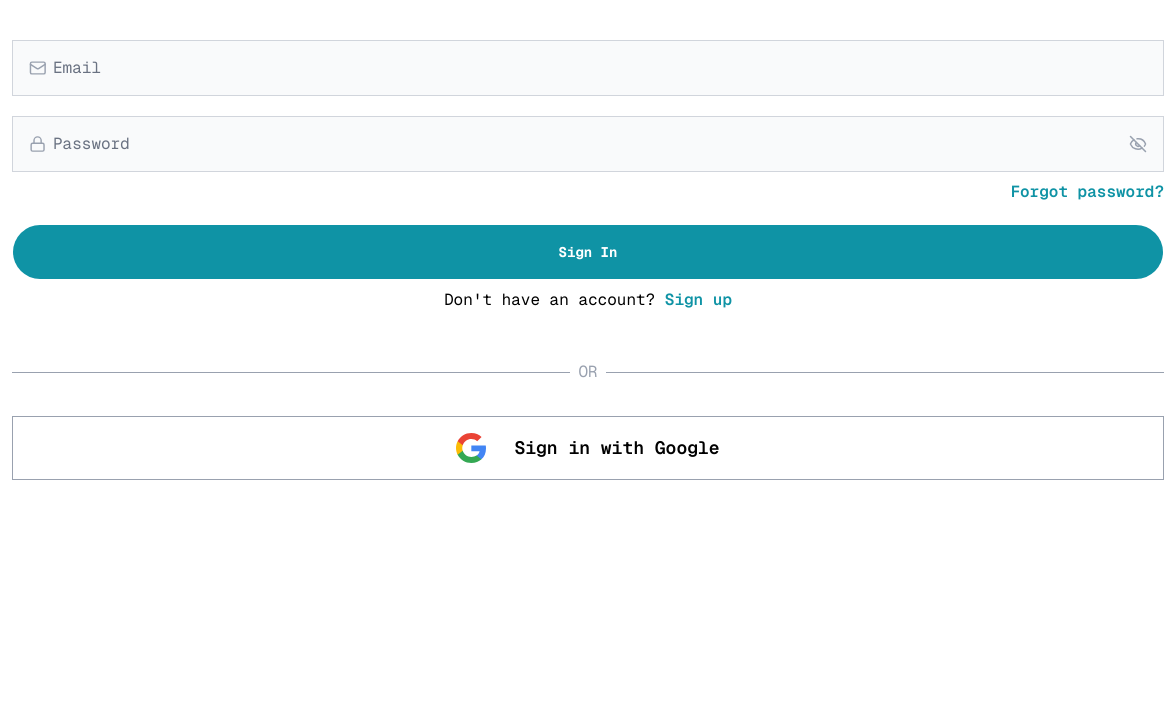
Test case: LoginForm › shows validation error when the email is invalid
In the field with id "email": (601, 68) top-left (55, 41), bottom-right (1147, 95), type "invalid-email"
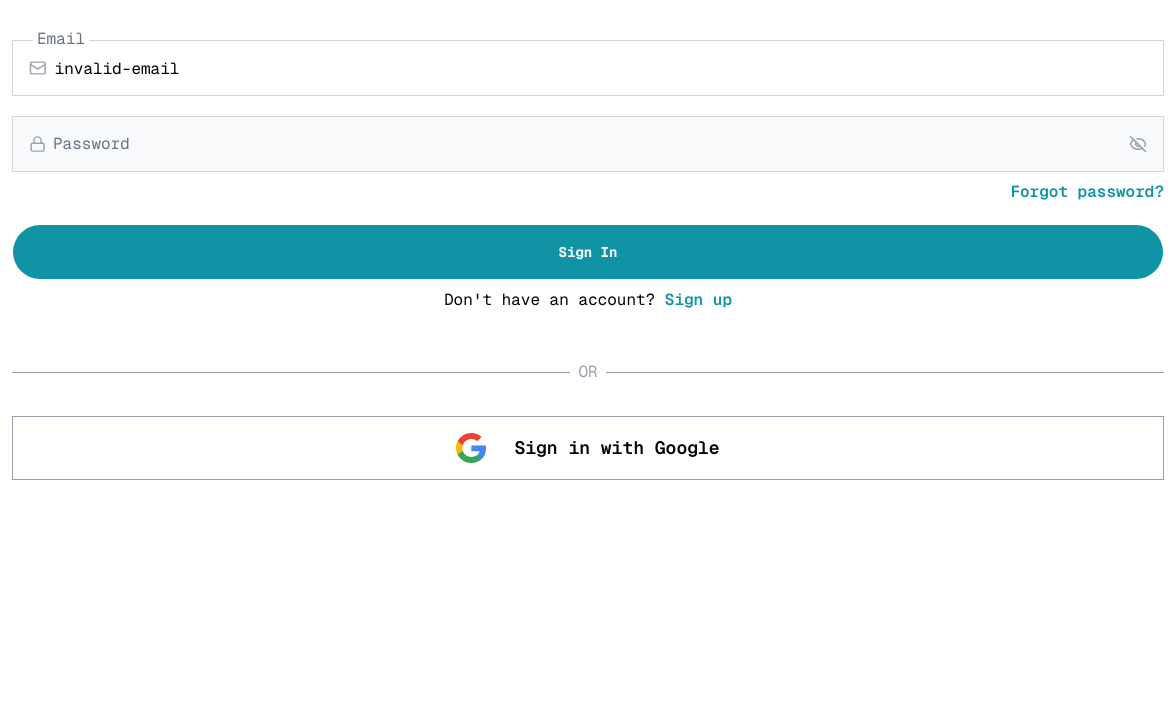
Click the button "Sign In": (588, 252) top-left (12, 224), bottom-right (1164, 280)
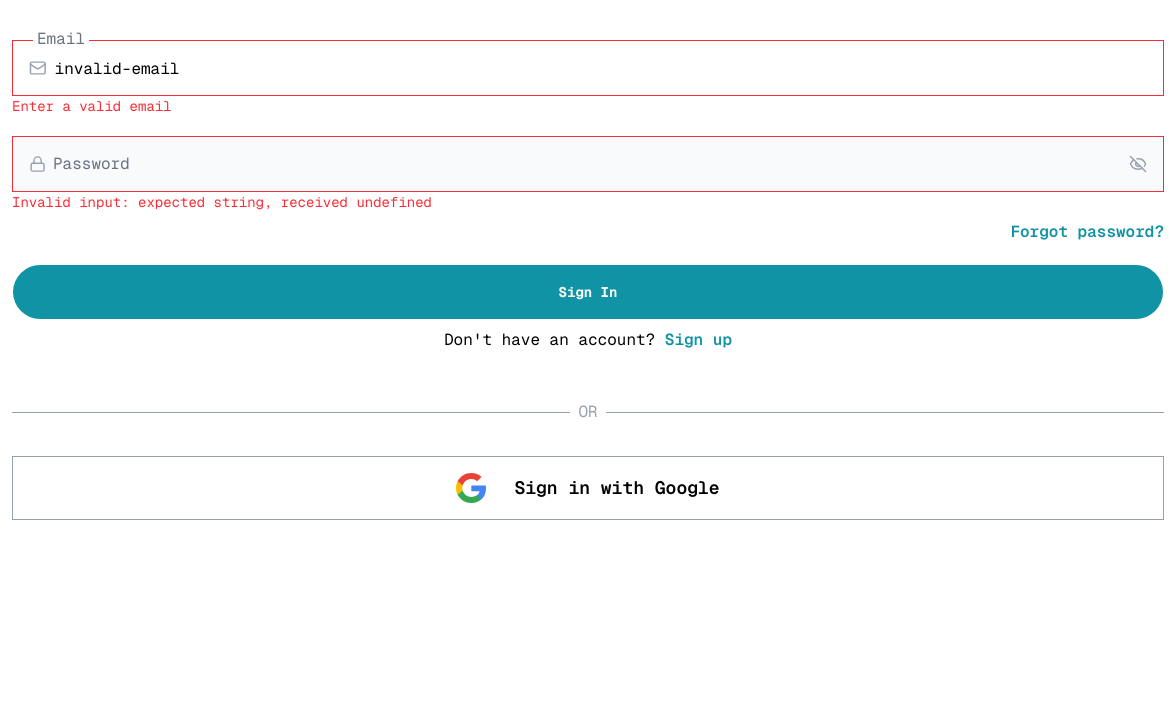
Expected: the text "Enter a valid email" is shown, top-left (12, 97), bottom-right (172, 115)
